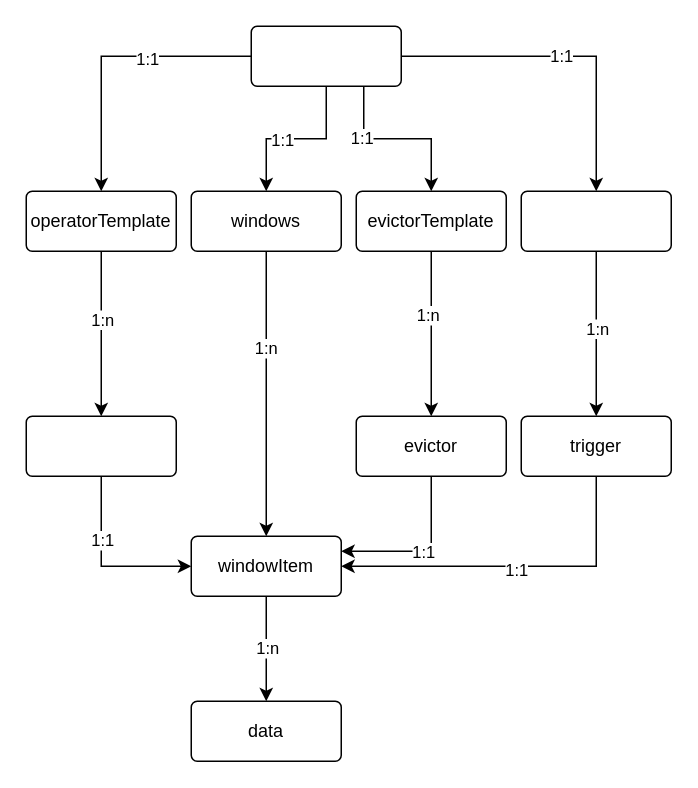
The diagram is 698 pixels wide and 788 high, and some of its shapes have lost their labels. Each missing label, with the box of its shape:
operator: (25, 415, 176, 476)
Processor: (250, 25, 401, 86)
triggerTemplate: (520, 190, 671, 251)
